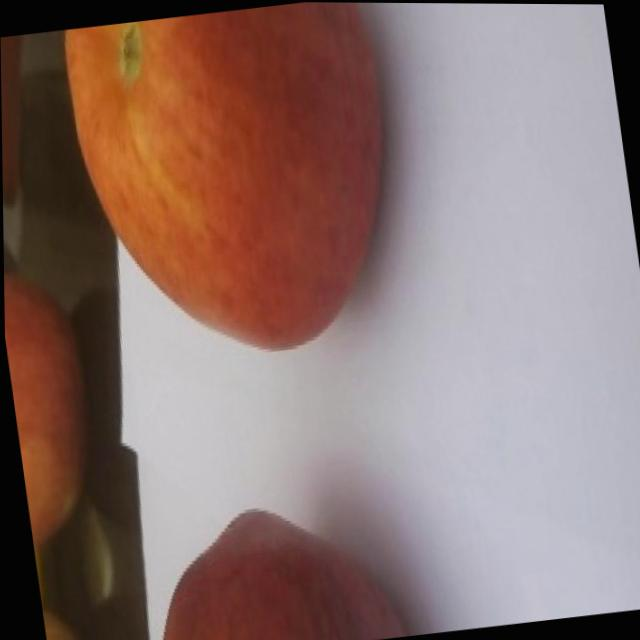Apple: (59, 0, 414, 371), (136, 488, 407, 640), (3, 260, 104, 549)
